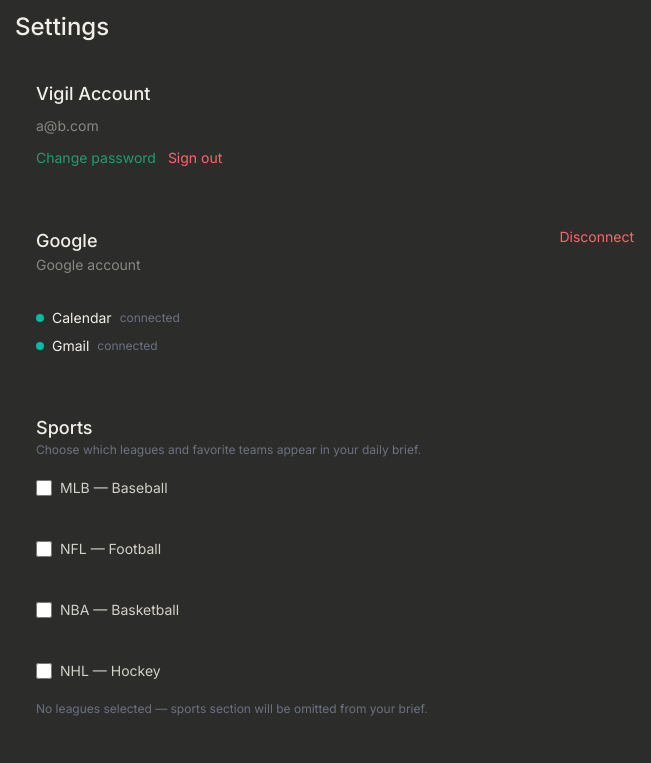
Test: SettingsPage › sports source picker (SPORTS-01) › SPORTS-01b-pwa-server-bucket: 500 renders server copy + no countdown + enabled Retry
Step 1. Click the checkbox with test id "sports-checkbox-mlb" → click(44, 488), box [36,480,52,496]
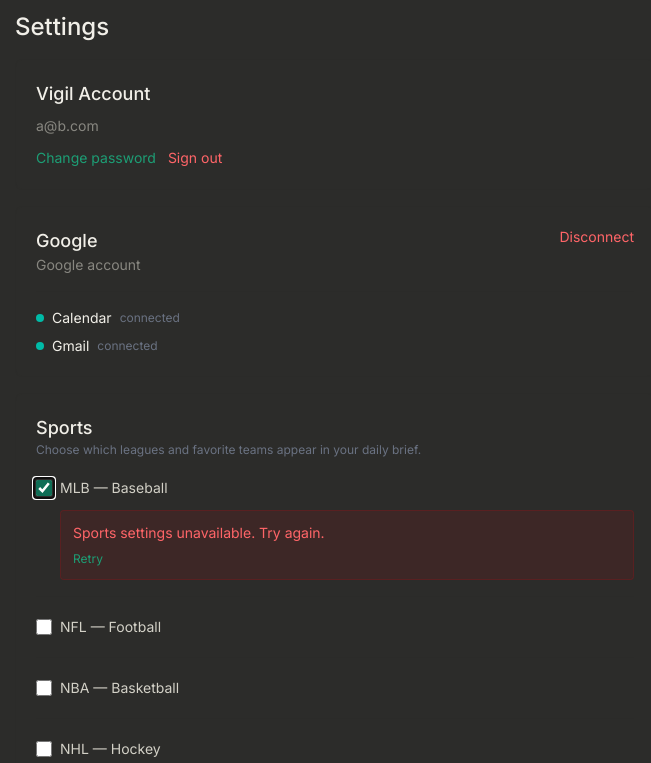
Check: the text "Sports settings unavailable. Try again." is shown, box [73,524,325,541]
Check: the button with test id "sports-retry-mlb" is enabled, box [73,551,103,567]
